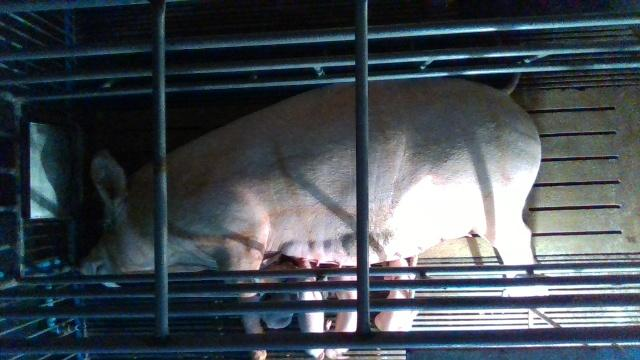piglet: (293, 257, 332, 360), (259, 261, 318, 329), (374, 257, 418, 332), (325, 267, 358, 357)
sow-sleep-lactate: (78, 74, 541, 360)
